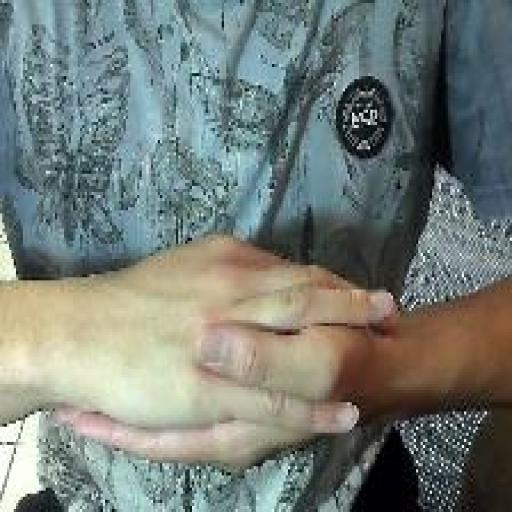Saru -monkey-: (50, 226, 407, 482)
